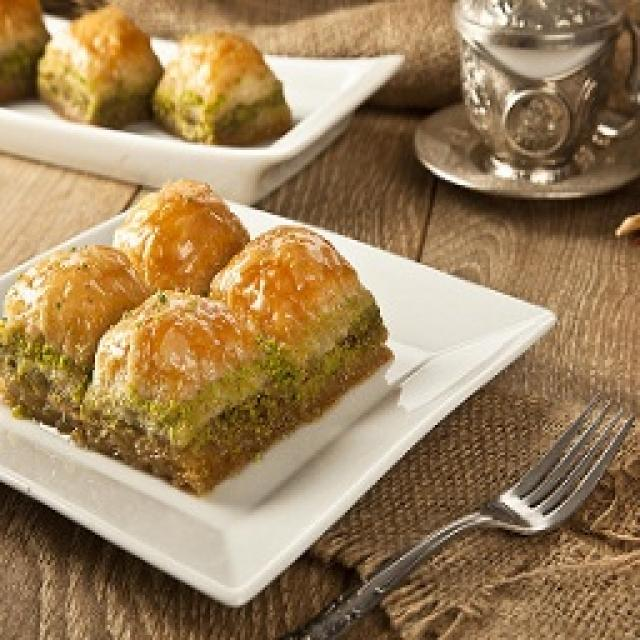Baklawa: (0, 180, 388, 495), (0, 0, 295, 148)
